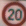20 km speed: (1, 1, 25, 25)
